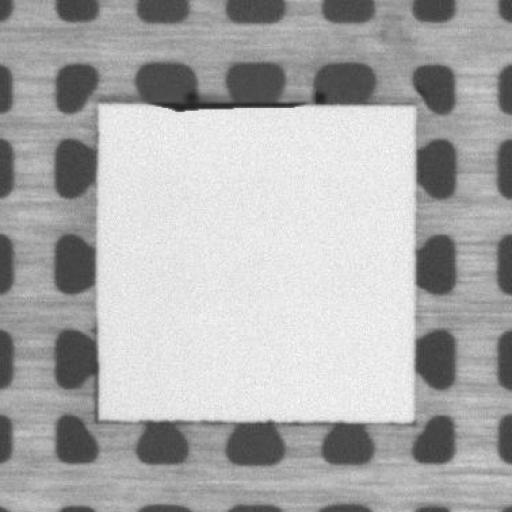DIE_BROKEN: (152, 93, 309, 115)
